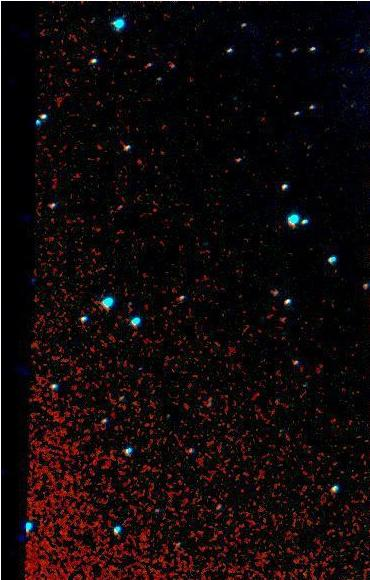star: (343, 33, 370, 63)
